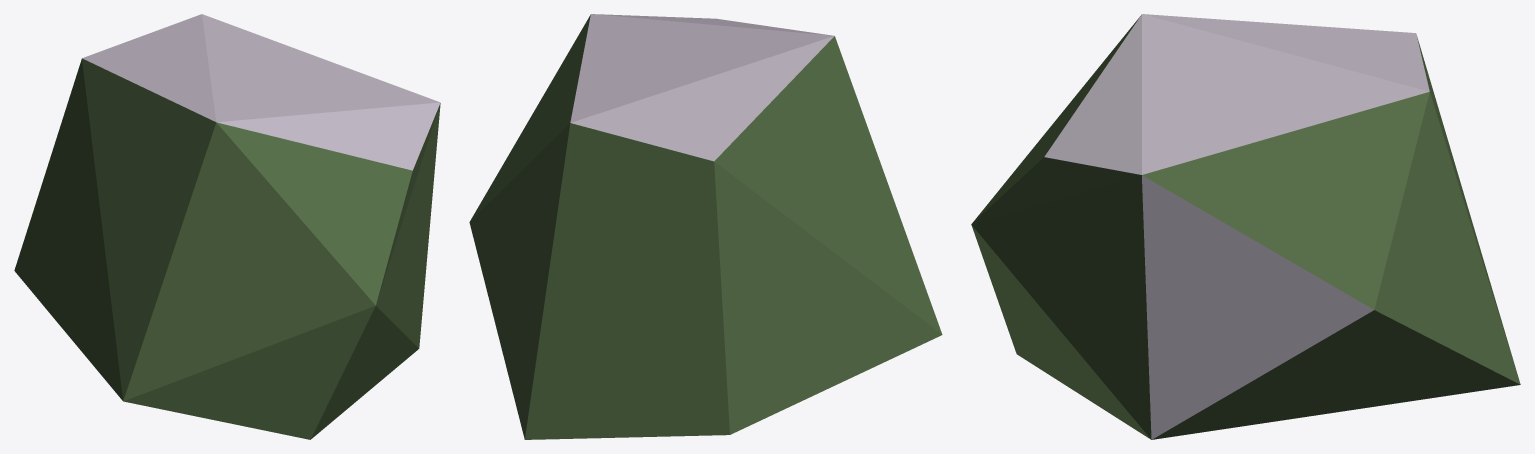
The model's file is Bush_Snow_1.lod4.glb.
3 renders of one model, left to right at view 1: azimuth 30°, elevation 25°; view 2: azimuth 150°, elevation 25°; view 3: azimuth 270°, elevation 25°, orthographic. The views are drawn at different scales.
Visible parts, largest first — view 1: Bush_Snow_1; view 2: Bush_Snow_1; view 3: Bush_Snow_1.
Part boxes in pixels (bbox=[...]): Bush_Snow_1: bbox=[14, 14, 440, 439]; Bush_Snow_1: bbox=[469, 14, 942, 439]; Bush_Snow_1: bbox=[971, 14, 1520, 439].
Bounding box in the file's own units: 1.39 × 1.16 × 1.81.
